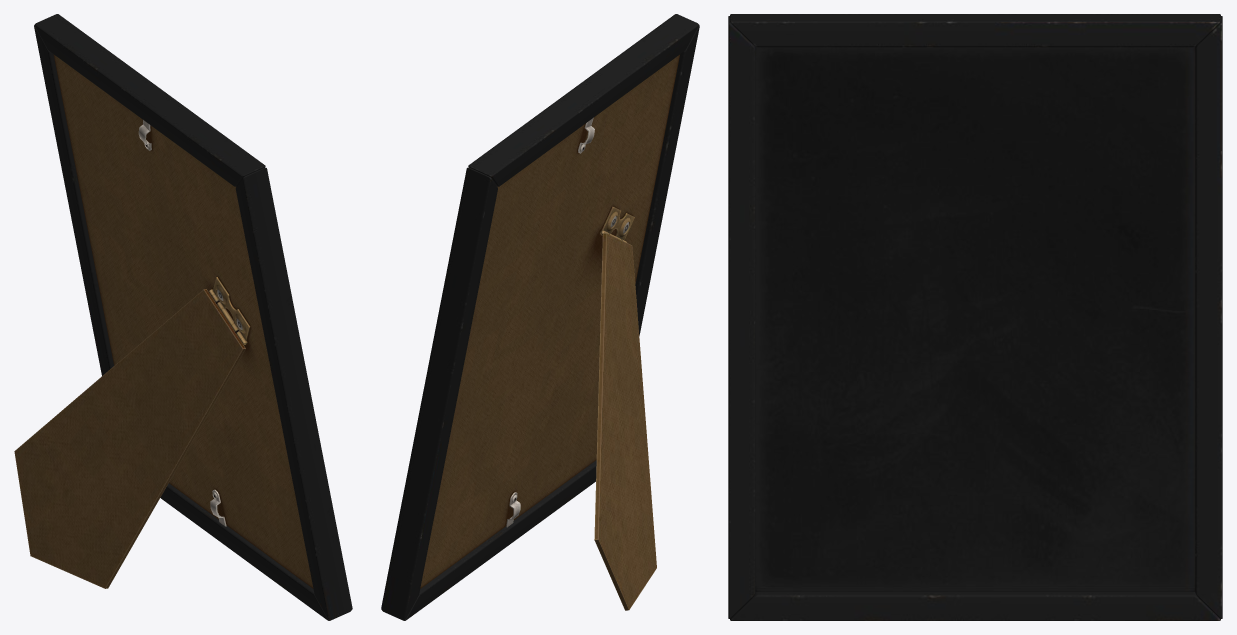
Rendered from standing_picture_frame_01.gltf.
3 renders of one model, left to right at view 1: azimuth 30°, elevation 25°; view 2: azimuth 150°, elevation 25°; view 3: azimuth 270°, elevation 25°, orthographic. The views are drawn at different scales.
Parts seen in each view (by area): view 1: standing_picture_frame_01; view 2: standing_picture_frame_01; view 3: standing_picture_frame_01.
Part boxes in pixels (x1,y1,x2,y2): standing_picture_frame_01: [14, 14, 352, 620]; standing_picture_frame_01: [381, 14, 699, 620]; standing_picture_frame_01: [728, 14, 1222, 620].
Bounding box in the file's own units: 0.1003 × 0.2497 × 0.2008.
3 materials, 3 textured.
